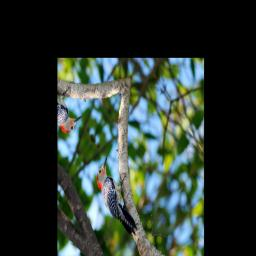Woodpecker: (90, 150, 150, 244)
